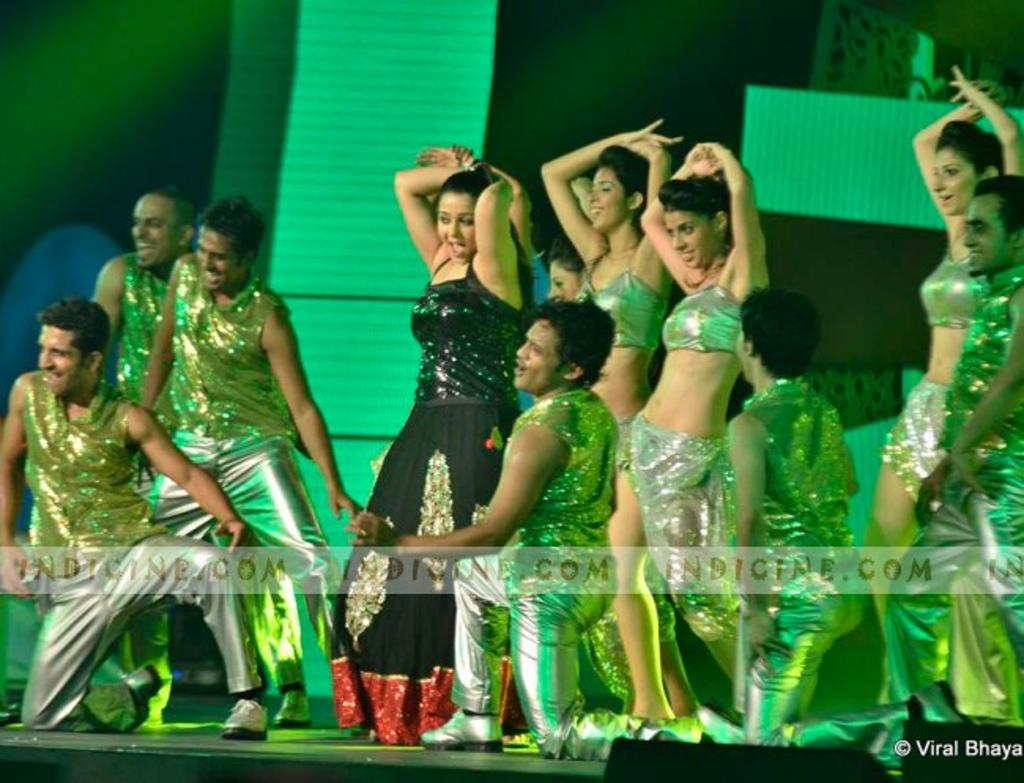face: (132, 198, 180, 269), (38, 328, 85, 396), (514, 320, 558, 390), (960, 202, 1003, 271), (931, 150, 977, 214), (665, 211, 714, 269), (196, 228, 240, 289), (437, 192, 472, 264), (590, 172, 625, 229), (547, 262, 577, 315)
